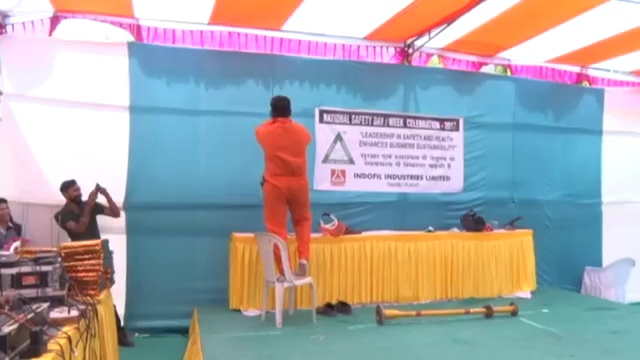helmet_off: (269, 94, 294, 122), (59, 179, 82, 205), (1, 196, 11, 225)
person: (252, 93, 314, 274), (49, 180, 122, 237)
